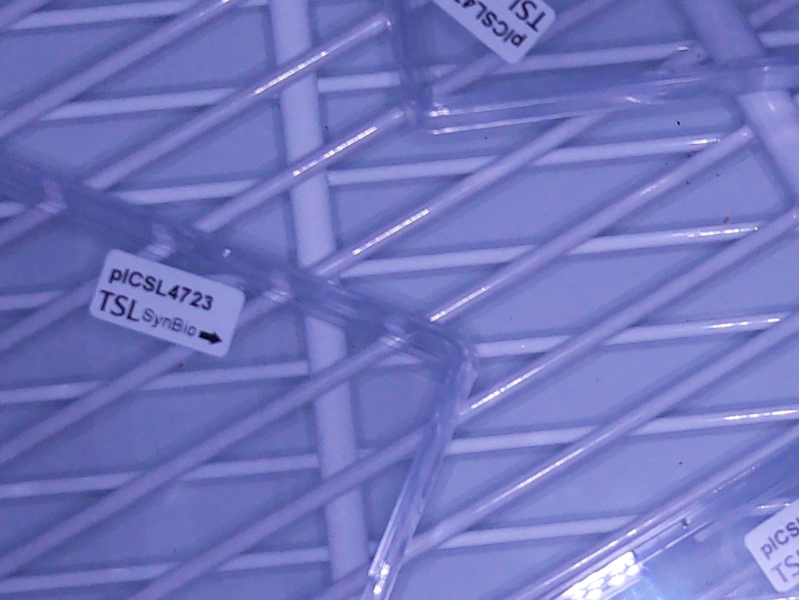plate: (1, 153, 481, 600), (394, 1, 799, 135), (551, 456, 799, 600)
